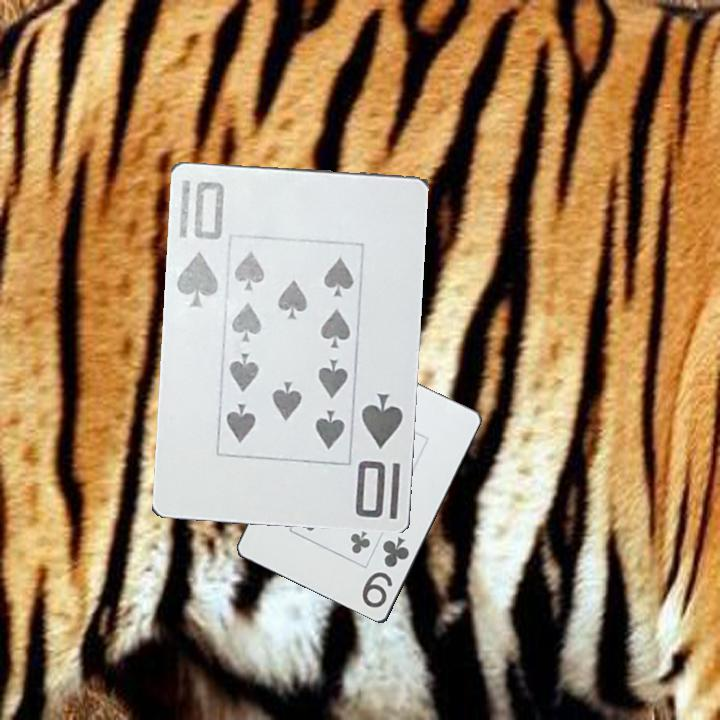9c: (358, 533, 413, 611)
Ts: (351, 389, 406, 522), (172, 177, 227, 308)
